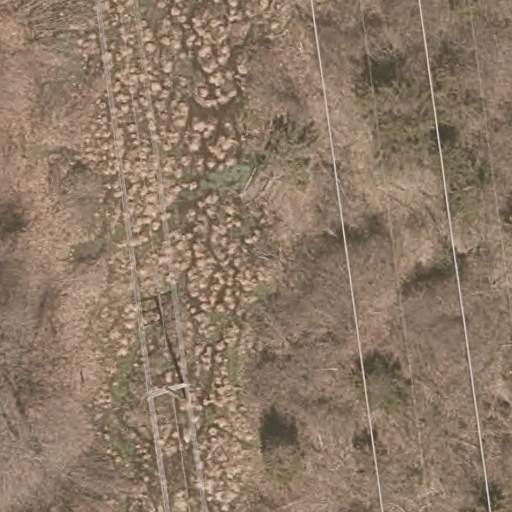DT: (141, 381, 197, 411)
